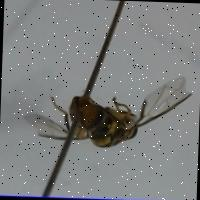Oriental-fruit-fly: (18, 66, 188, 170)
